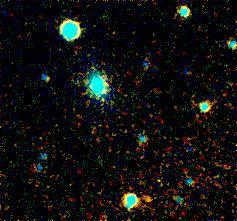star: (134, 185, 164, 215)
